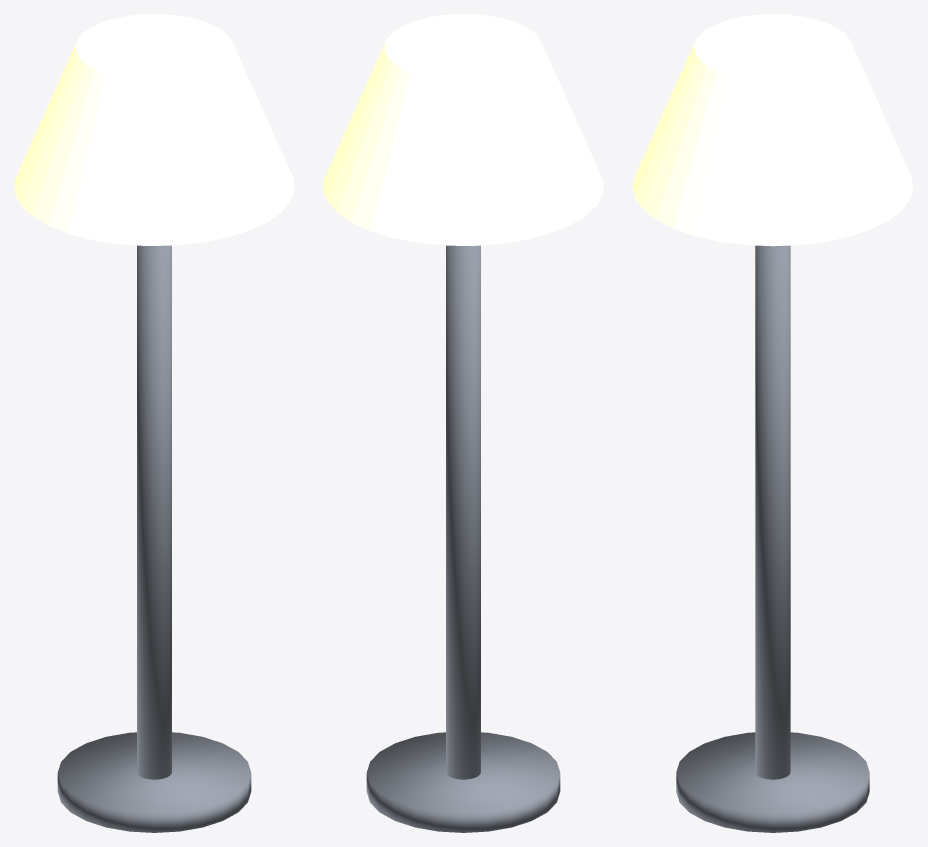
Rendered from lamp.glb.
3 renders of one model, left to right at view 1: azimuth 30°, elevation 25°; view 2: azimuth 150°, elevation 25°; view 3: azimuth 270°, elevation 25°, orthographic.
Visible parts, largest first — view 1: Shade, Pole, Foot; view 2: Shade, Pole, Foot; view 3: Shade, Pole, Foot.
Boxes of the visible parts, box(x1,y1,x2,y2) form: Shade: box(14, 14, 294, 245); Pole: box(137, 245, 171, 779); Foot: box(57, 732, 251, 832); Shade: box(323, 14, 603, 245); Pole: box(446, 245, 480, 779); Foot: box(366, 732, 560, 832); Shade: box(632, 14, 913, 246); Pole: box(755, 245, 790, 779); Foot: box(676, 732, 869, 832).
Size of the model in its own units: 0.64 by 1.88 by 0.64.
